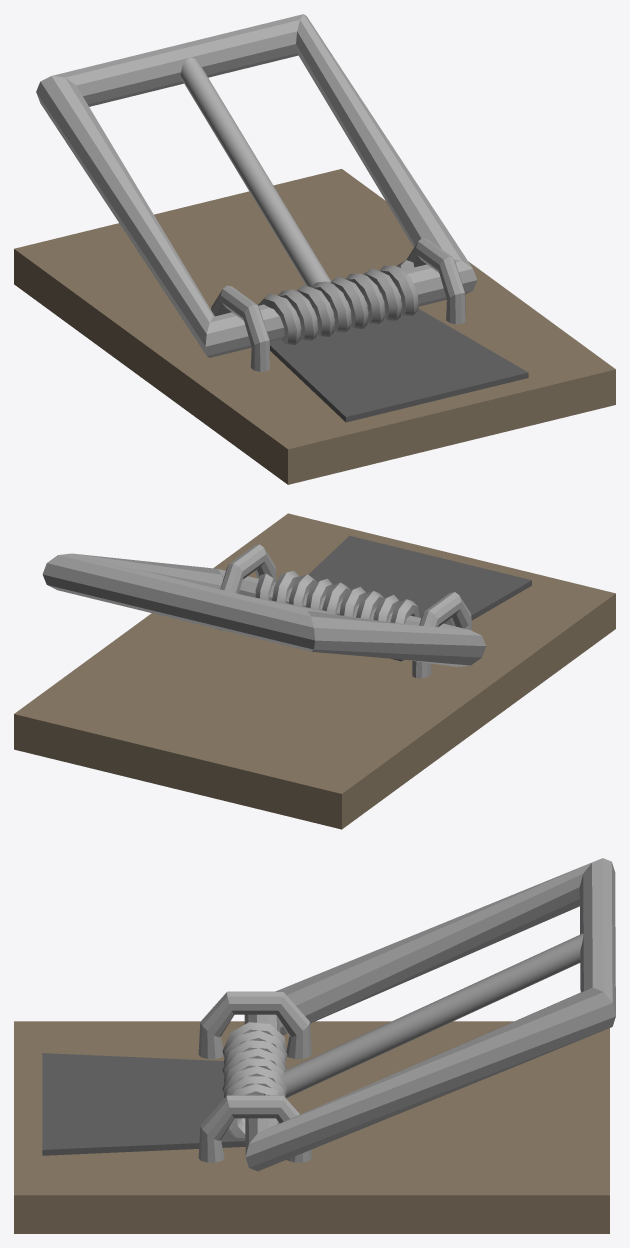
Rendered from nezumitori.fbx.
3 views of the same model, one above another, from view 1: azimuth 30°, elevation 25°; view 2: azimuth 150°, elevation 25°; view 3: azimuth 270°, elevation 25° (orthographic). The views are drawn at different scales.
Parts seen in each view (by area): view 1: pasted__pCube4, pTorus3, pasted__pasted__pasted__pCube4, pHelix1, pCylinder1, pTorus1, pasted__pTorus1; view 2: pasted__pCube4, pTorus3, pasted__pasted__pasted__pCube4, pHelix1, pTorus1, pasted__pTorus1; view 3: pasted__pCube4, pTorus3, pasted__pasted__pasted__pCube4, pCylinder1, pHelix1, pTorus1, pasted__pTorus1.
Boxes of the visible parts, <box> form: pasted__pCube4: <box>14,169,615,484</box>; pTorus3: <box>36,14,477,357</box>; pasted__pasted__pasted__pCube4: <box>270,308,528,422</box>; pHelix1: <box>258,260,418,345</box>; pCylinder1: <box>180,57,331,287</box>; pTorus1: <box>211,285,269,371</box>; pasted__pTorus1: <box>406,238,465,324</box>; pasted__pCube4: <box>14,513,615,829</box>; pTorus3: <box>42,553,486,666</box>; pasted__pasted__pasted__pCube4: <box>308,535,531,661</box>; pHelix1: <box>255,570,419,624</box>; pTorus1: <box>412,592,471,678</box>; pasted__pTorus1: <box>219,544,276,630</box>; pasted__pCube4: <box>14,1021,609,1233</box>; pTorus3: <box>244,858,615,1171</box>; pasted__pasted__pasted__pCube4: <box>42,1053,245,1155</box>; pCylinder1: <box>281,933,583,1098</box>; pHelix1: <box>222,1022,287,1138</box>; pTorus1: <box>198,991,311,1058</box>; pasted__pTorus1: <box>198,1095,311,1162</box>.
Size of the model in its own units: 0.528 by 0.3115 by 0.7721.
